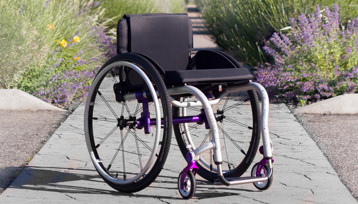wheelchair: (79, 11, 283, 194)
